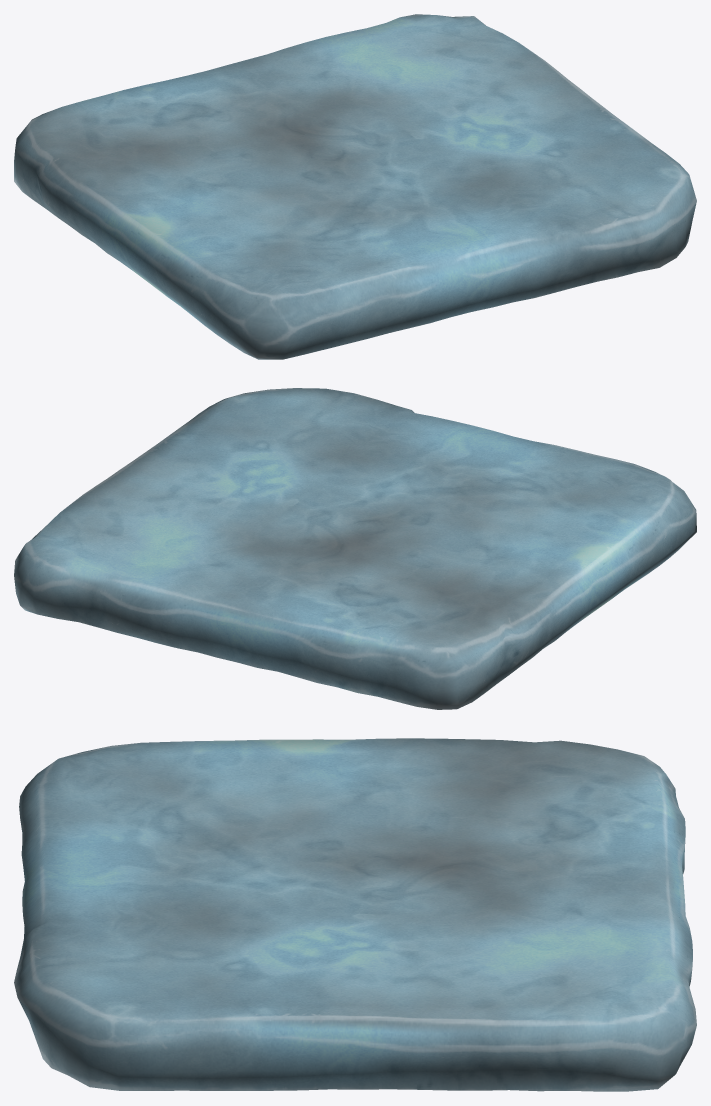
Rendered from Iceberg01.fbx.
3 views of the same model, one above another, from view 1: azimuth 30°, elevation 25°; view 2: azimuth 150°, elevation 25°; view 3: azimuth 270°, elevation 25° (orthographic). The views are drawn at different scales.
Parts seen in each view (by area): view 1: Volume4; view 2: Volume4; view 3: Volume4.
Boxes of the visible parts, x1,y1,x2,y2 form: Volume4: (14, 14, 696, 359); Volume4: (14, 388, 696, 709); Volume4: (14, 738, 696, 1091).
Size of the model in its own units: 265 by 33.45 by 257.
